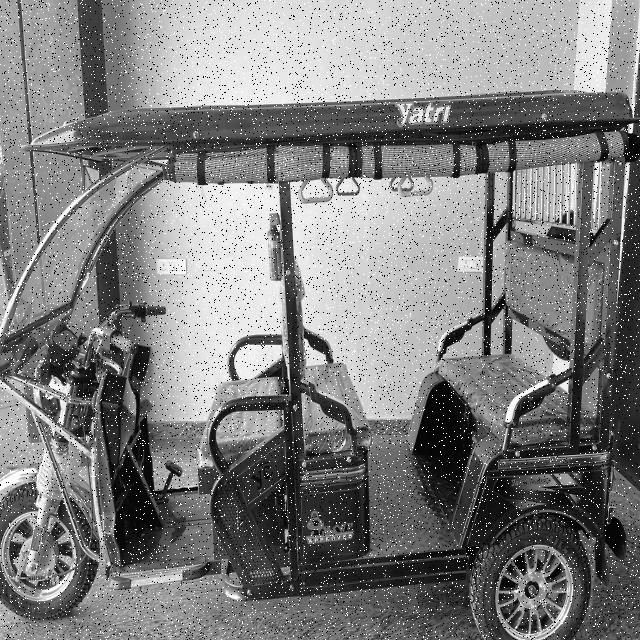Toto: (0, 83, 640, 639)
